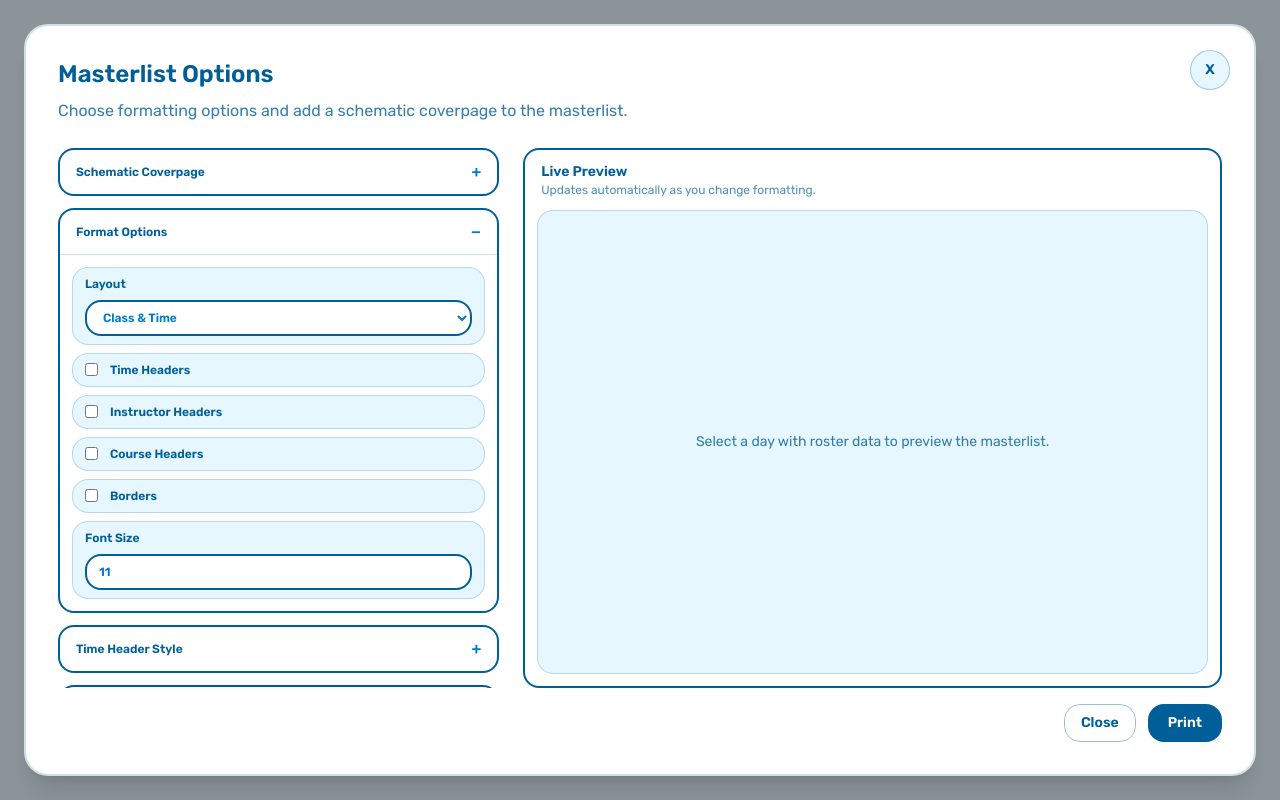
Test case: MasterlistOptionsModal › opens schematic cover options independently from the other groups
The image size is (1280, 800).
Expected: the dropdown named "Masterlist layout" is shown, [85,300,472,336]
Click the button "Schematic Coverpage +".
click(140, 172)  # box [60,150,497,194]
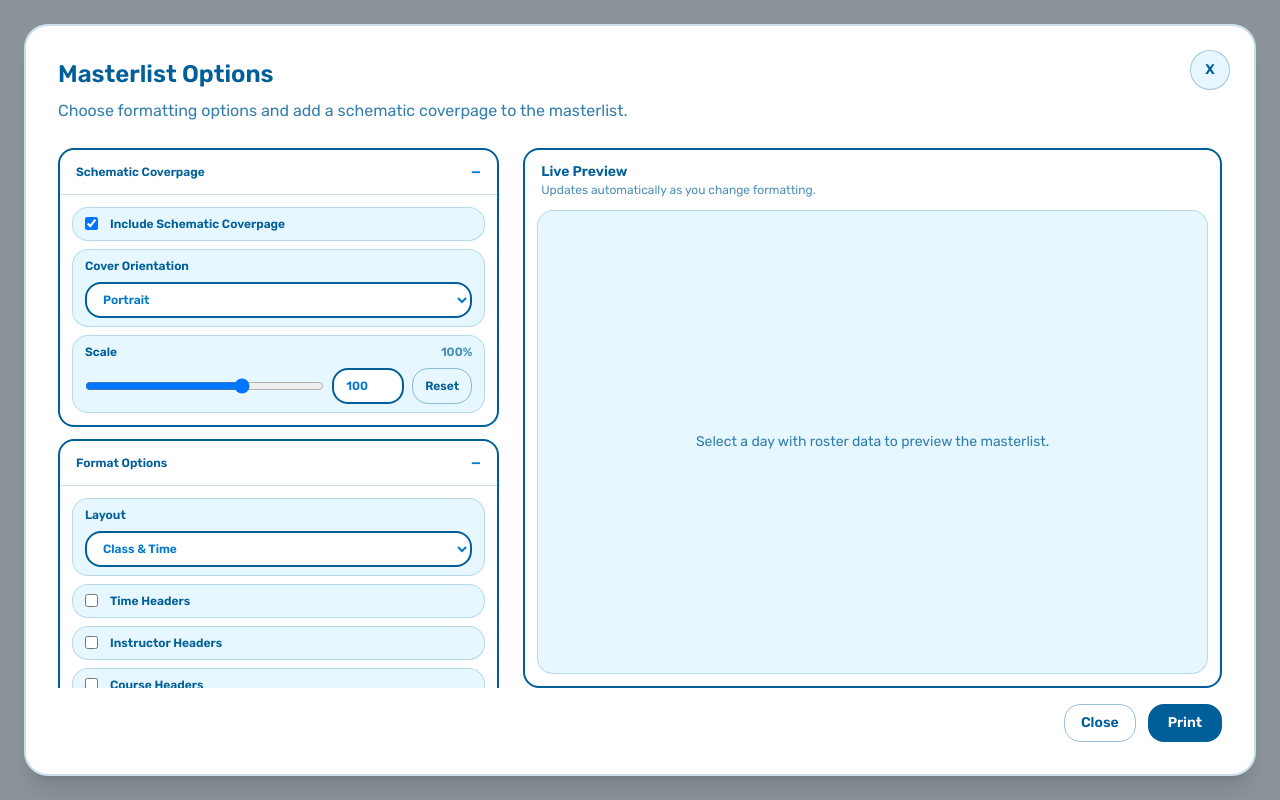
Expected: the dropdown named "Masterlist layout" is shown, [85,531,472,567]
Expected: the text "Include Schematic Coverpage" is shown, [72,207,485,241]
Expected: the text "Cover Orientation" is shown, [72,249,485,327]
Click the button "Format Options −".
click(122, 463)  # box [60,441,497,485]
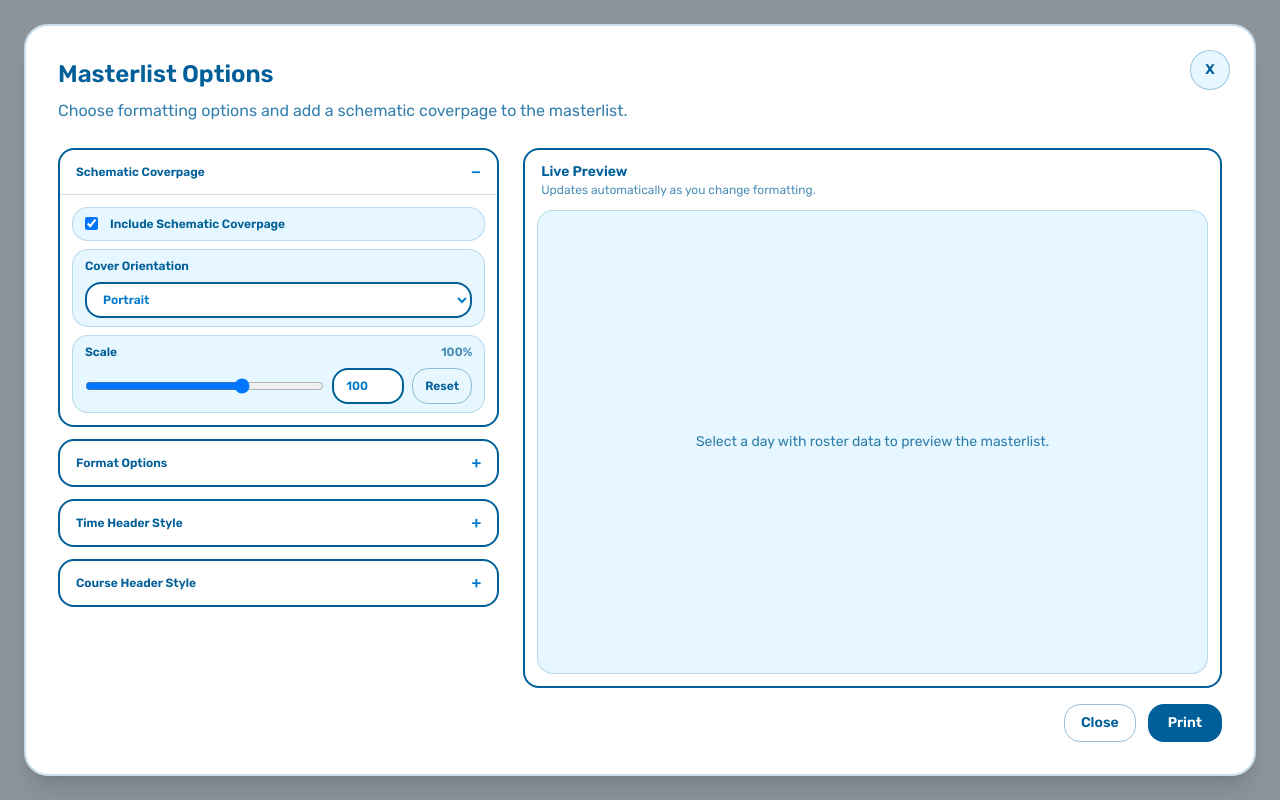
Expected: the text "Cover Orientation" is shown, [72,249,485,327]
Expected: the dropdown labelled "Masterlist layout" is gone
Click the button "Schematic Coverpage −".
click(140, 172)  # box [60,150,497,194]
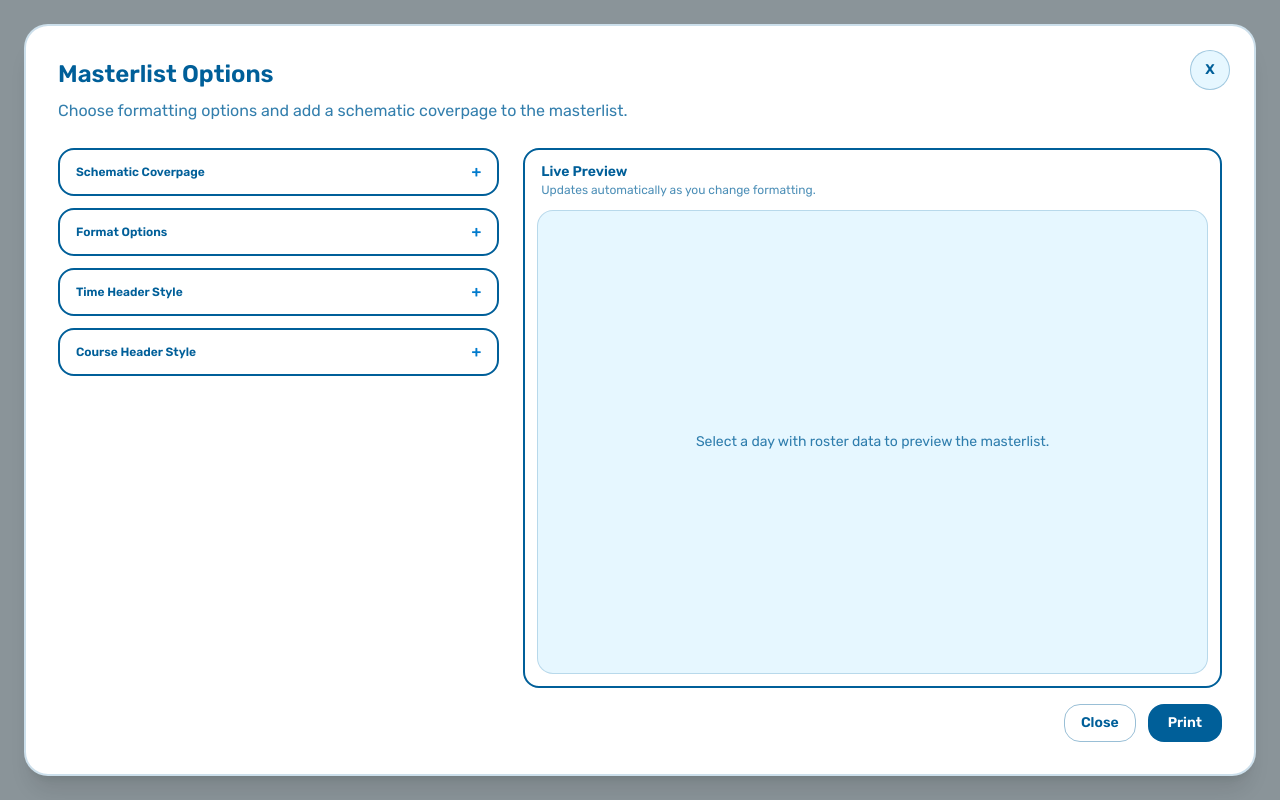
Expected: the button "Format Options +" is collapsed, [60,210,497,254]
Expected: the text "Cover Orientation" is gone
